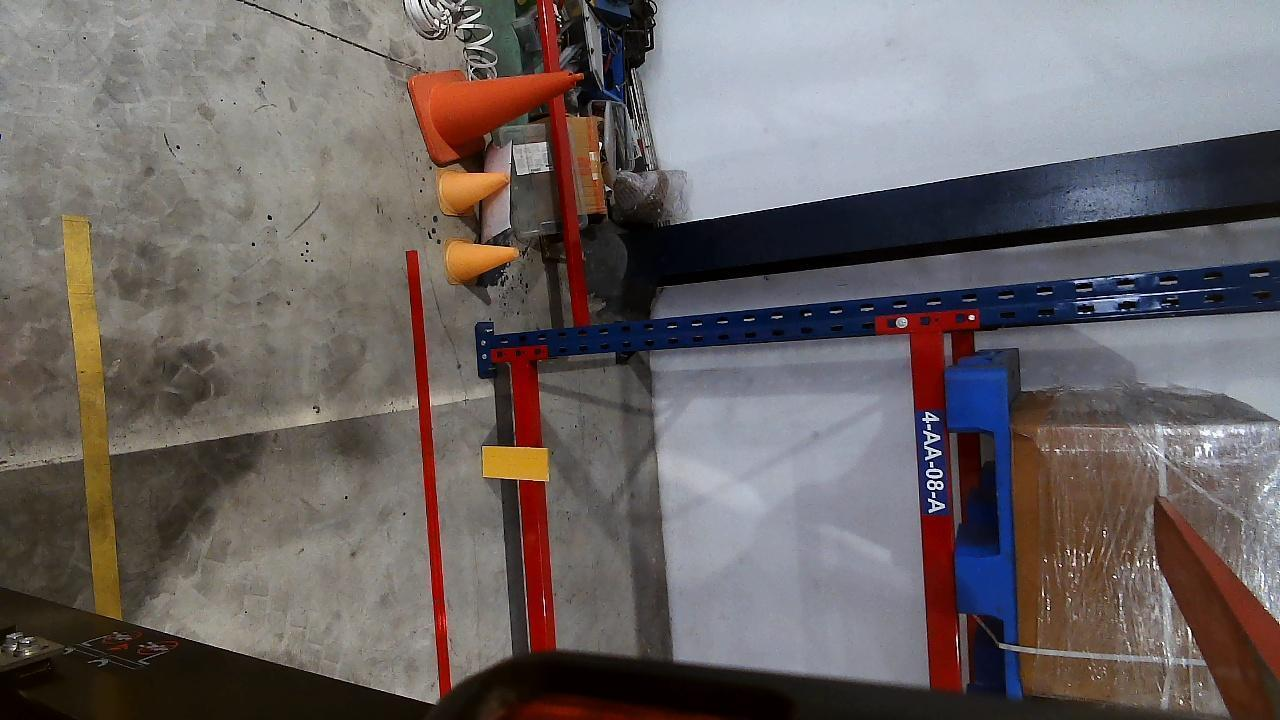red_line: (407, 249, 453, 690)
yellow_line: (58, 213, 120, 618)
